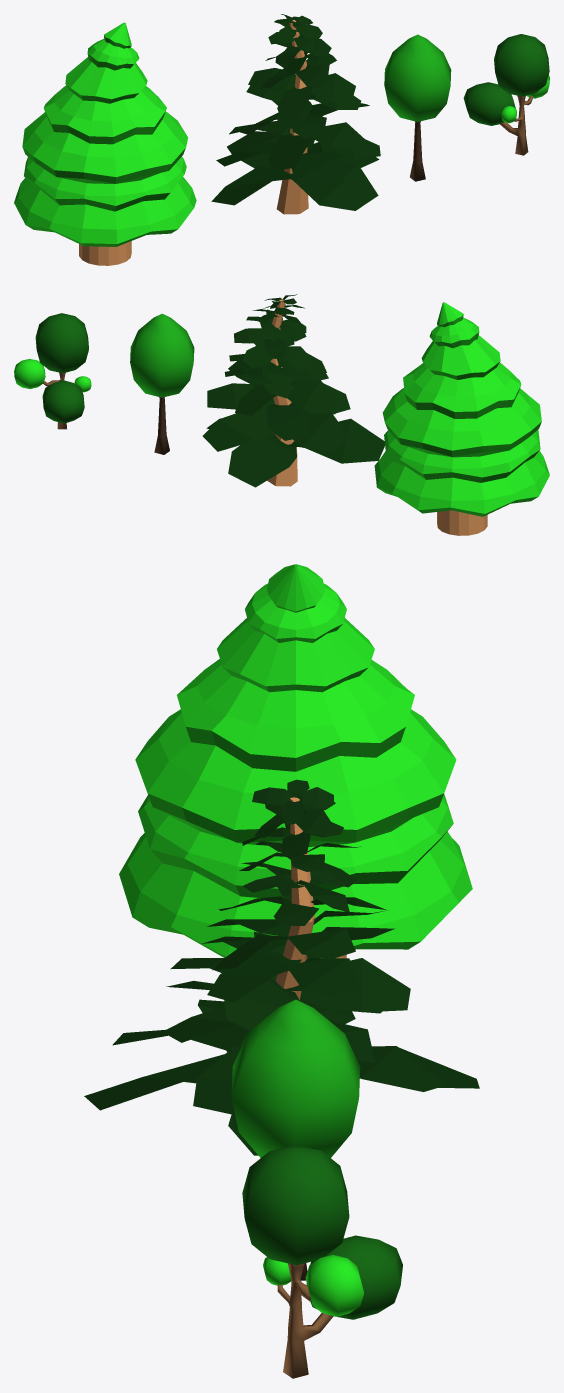
The model's file is Trees.fbx.
The picture shows the model from 3 angles, top to bottom: view 1: azimuth 30°, elevation 25°; view 2: azimuth 150°, elevation 25°; view 3: azimuth 270°, elevation 25°; orthographic projection. The views are drawn at different scales.
Visible parts, largest first — view 1: 01Tree, 02Tree, 03Tree, Plane.003, Plane.007, Plane.002, Cylinder, Plane.011, Plane.001, Plane.008, Plane.023, Plane.022 (+9 smaller); view 2: 01Tree, 02Tree, 03Tree, Plane.001, Plane.005, Plane.002, Plane.006, Plane.010, Plane.015, Plane.009, Cylinder, Plane.014 (+10 smaller); view 3: 01Tree, 02Tree, 03Tree, Plane.014, Plane.019, Plane.005, Plane.003, Plane.016, Plane.013, Plane.004, Cylinder, Plane.020 (+3 smaller).
Boxes of the visible parts, x1,y1,x2,y2 form: 01Tree: [14, 22, 196, 265]; 02Tree: [463, 34, 549, 155]; 03Tree: [384, 34, 451, 181]; Plane.003: [291, 164, 378, 210]; Plane.007: [291, 148, 343, 191]; Plane.002: [211, 165, 293, 205]; Cylinder: [276, 20, 308, 214]; Plane.011: [268, 135, 313, 170]; Plane.001: [227, 131, 284, 169]; Plane.008: [313, 122, 364, 148]; Plane.023: [306, 73, 355, 101]; Plane.022: [277, 87, 309, 119]; 01Tree: [374, 302, 549, 535]; 02Tree: [14, 313, 91, 429]; 03Tree: [130, 313, 194, 454]; Plane.001: [228, 435, 296, 487]; Plane.005: [202, 411, 274, 451]; Plane.002: [288, 418, 384, 463]; Plane.006: [293, 413, 350, 451]; Plane.010: [266, 403, 309, 440]; Plane.015: [287, 380, 337, 412]; Plane.009: [207, 383, 274, 411]; Cylinder: [267, 299, 297, 486]; Plane.014: [235, 384, 276, 415]; 01Tree: [119, 564, 472, 958]; 02Tree: [242, 1144, 402, 1378]; 03Tree: [231, 999, 360, 1280]; Plane.014: [285, 958, 410, 1012]; Plane.019: [207, 950, 301, 1002]; Plane.005: [357, 1046, 444, 1091]; Plane.003: [84, 1054, 224, 1110]; Plane.016: [289, 958, 359, 997]; Plane.013: [224, 978, 299, 1030]; Plane.004: [193, 1045, 241, 1114]; Cylinder: [276, 797, 314, 1000]; Plane.020: [286, 928, 355, 959].
Size of the model in its own units: 1962 by 796 by 654.
